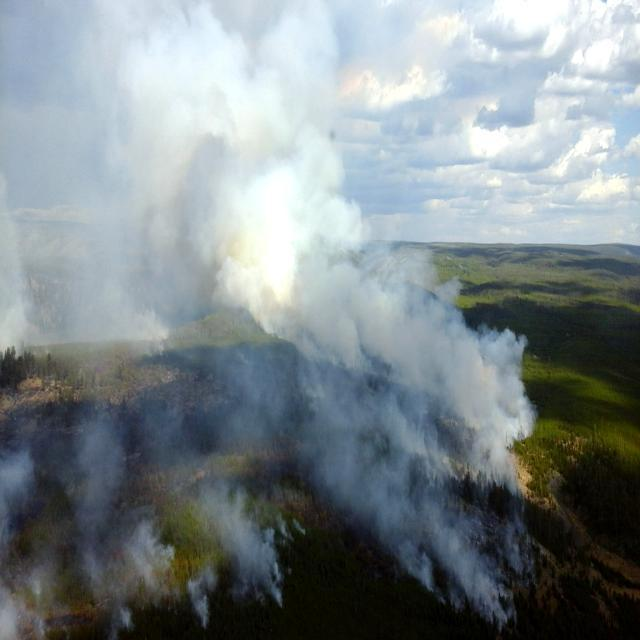Smoke: (0, 108, 549, 631)
